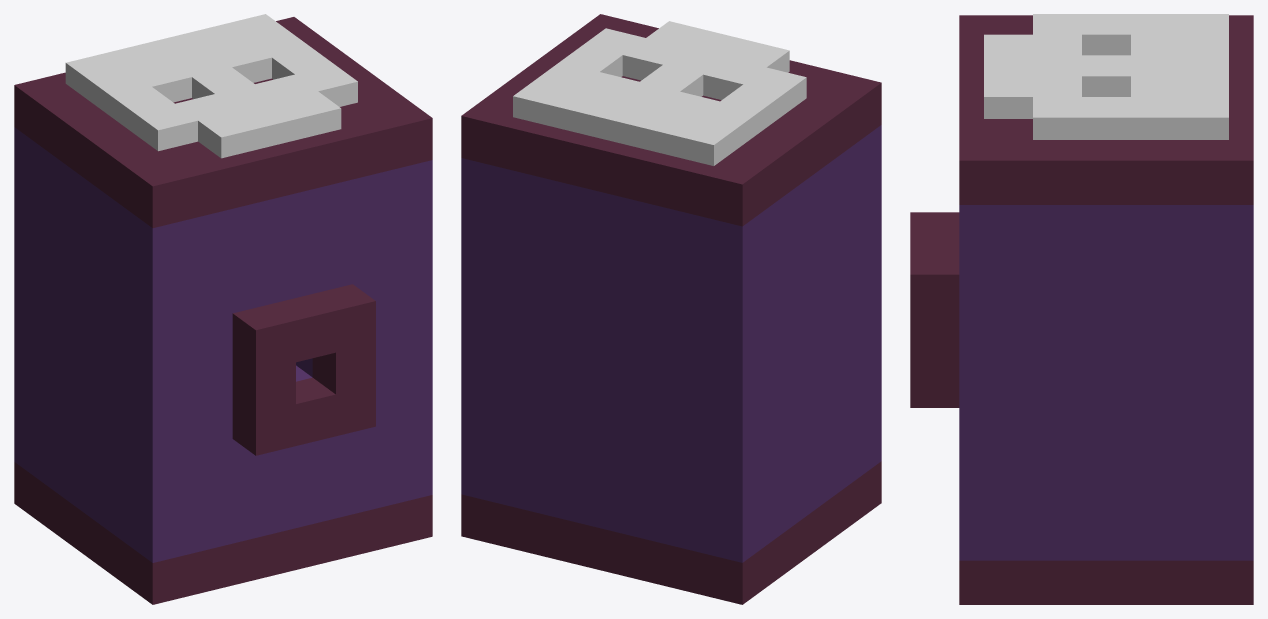
Rendered from tridenttrap.obj.
The picture shows the model from 3 angles, left to right: view 1: azimuth 30°, elevation 25°; view 2: azimuth 150°, elevation 25°; view 3: azimuth 270°, elevation 25°; orthographic projection. The views are drawn at different scales.
Size of the model in its own units: 1.4 by 2.1 by 1.4.
Materials: 1 (1 with a texture image).
